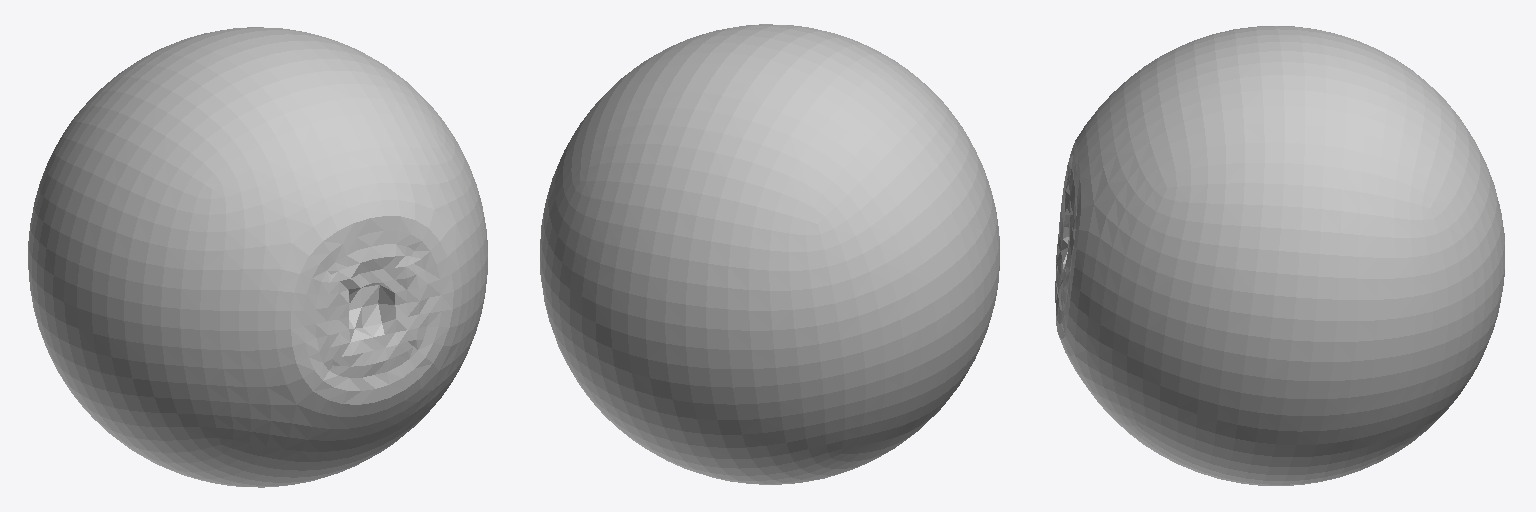
The model's file is eye_left.OBJ.
3 renders of one model, left to right at view 1: azimuth 30°, elevation 25°; view 2: azimuth 150°, elevation 25°; view 3: azimuth 270°, elevation 25°, orthographic.
Visible parts, largest first — view 1: Group60464; view 2: Group60464; view 3: Group60464.
Boxes of the visible parts, <box> form: Group60464: <box>28,27,487,487</box>; Group60464: <box>540,24,999,484</box>; Group60464: <box>1055,26,1504,485</box>.
Bounding box in the file's own units: 0.03 × 0.03 × 0.0294.